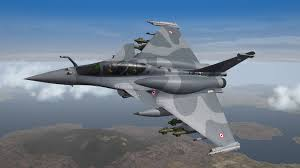fighter: (21, 17, 259, 158)
